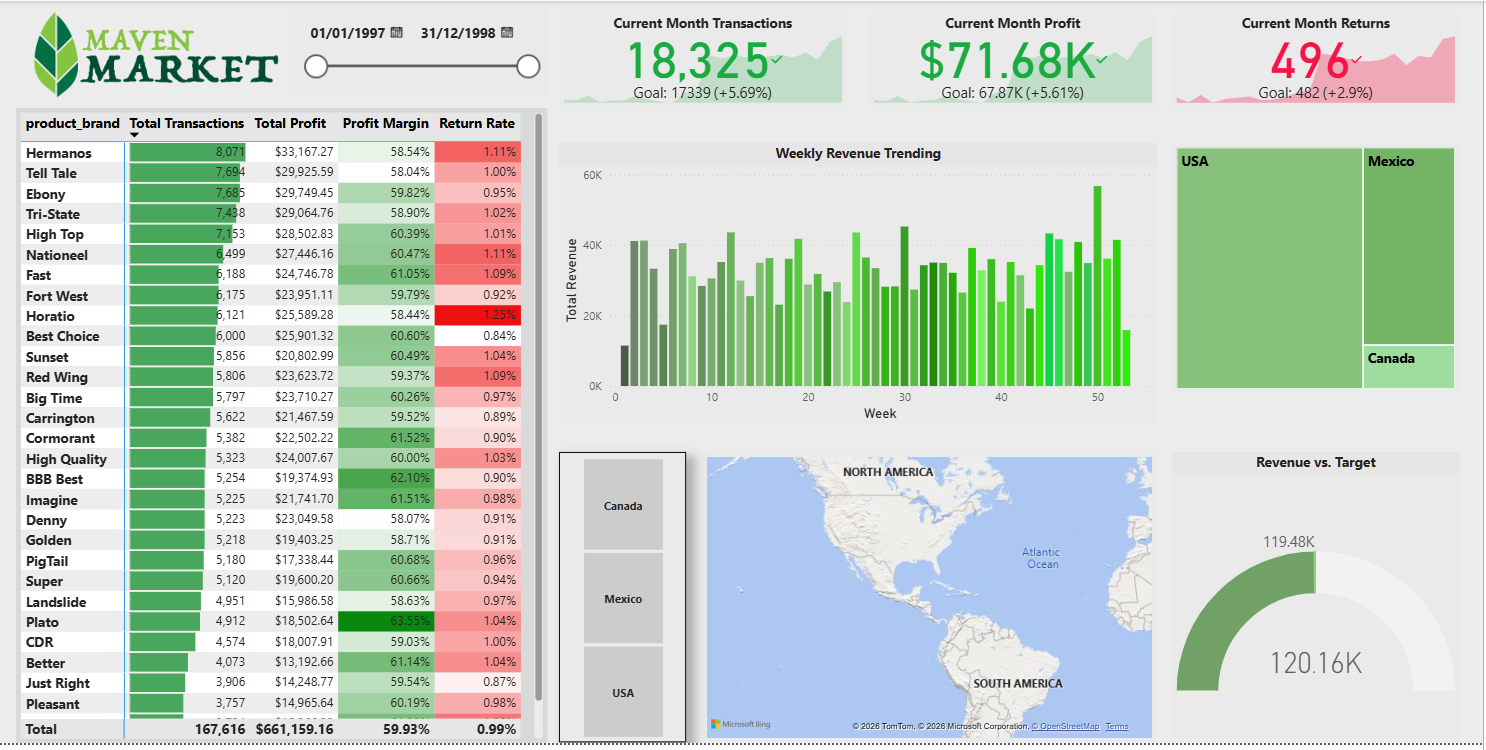

What the dashboard file says about the page in this screenshot:
{"tool":"powerbi","page":{"name":"Topline Performance","canvas":[1600,800],"ordinal":0},"visuals":[{"type":"image","box":[18.3,0,300,115],"z":0},{"type":"pivotTable","fields":{"Values":["Key Measures.Total Transactions","Key Measures.Total Profit","Key Measures.Profit Margin","Key Measures.Return Rate"],"Rows":["Products.product_brand"]},"box":[18.3,115,573.3,685],"z":1000},{"type":"kpi","title":"Current Month Profit","fields":{"TrendLine":["Calendar.Start of Month"],"Goal":["Key Measures.Last Month Profit"],"Indicator":["Key Measures.Total Profit"]},"box":[938.3,13.3,310,101.7],"z":2000},{"type":"kpi","title":"Current Month Returns","fields":{"TrendLine":["Calendar.Start of Month"],"Indicator":["Key Measures.Total Returns"],"Goal":["Key Measures.Last Month Returns"]},"box":[1265,13.3,310,101.7],"z":3000},{"type":"slicer","title":"Current Month Transactions","fields":{"Values":["Calendar.date"]},"box":[313.3,6.7,278.3,95],"z":4000},{"type":"kpi","title":"Current Month Transactions","fields":{"Indicator":["Key Measures.Total Transactions"],"TrendLine":["Calendar.Start of Month"],"Goal":["Key Measures.Last Month Transactions"]},"box":[603.3,13.3,310,101.7],"z":5000},{"type":"filledMap","fields":{"Category":["Stores.store_city"]},"box":[758.3,486.7,490,313.3],"z":6000},{"type":"treemap","fields":{"Group":["Stores.store_country","Stores.store_city","Stores.store_state"],"Values":["Key Measures.Total Transactions"]},"box":[1265,153.3,310,270],"z":7000},{"type":"clusteredColumnChart","title":"Weekly Revenue Trending","fields":{"Y":["Key Measures.Total Revenue"],"Category":["Calendar.Week","Calendar.Year"]},"box":[603.3,153.3,645,305],"z":8000},{"type":"slicer","fields":{"Values":["Stores.store_country"]},"box":[603.3,486.7,136.7,313.3],"z":9000},{"type":"gauge","title":"Revenue vs. Target","fields":{"Y":["Key Measures.Total Revenue"],"TargetValue":["Key Measures.Revenue Target"]},"box":[1265,486.7,310,313.3],"z":10000}]}

Visuals, with their boxes in screenshot pixels (x1, y1, x2, y2), scaled from the page's 1600x800 canvas onto the 1486x750 screenshot:
image: x1=17 y1=0 x2=296 y2=108
pivotTable - Key Measures.Total Transactions x Key Measures.Total Profit: x1=17 y1=108 x2=549 y2=749
"Current Month Profit" kpi: x1=871 y1=12 x2=1159 y2=108
"Current Month Returns" kpi: x1=1175 y1=12 x2=1463 y2=108
"Current Month Transactions" slicer: x1=291 y1=6 x2=549 y2=95
"Current Month Transactions" kpi: x1=560 y1=12 x2=848 y2=108
filledMap - Stores.store_city: x1=704 y1=456 x2=1159 y2=749
treemap - Stores.store_country x Stores.store_city: x1=1175 y1=144 x2=1463 y2=397
"Weekly Revenue Trending" clusteredColumnChart: x1=560 y1=144 x2=1159 y2=430
slicer - Stores.store_country: x1=560 y1=456 x2=687 y2=749
"Revenue vs. Target" gauge: x1=1175 y1=456 x2=1463 y2=749
